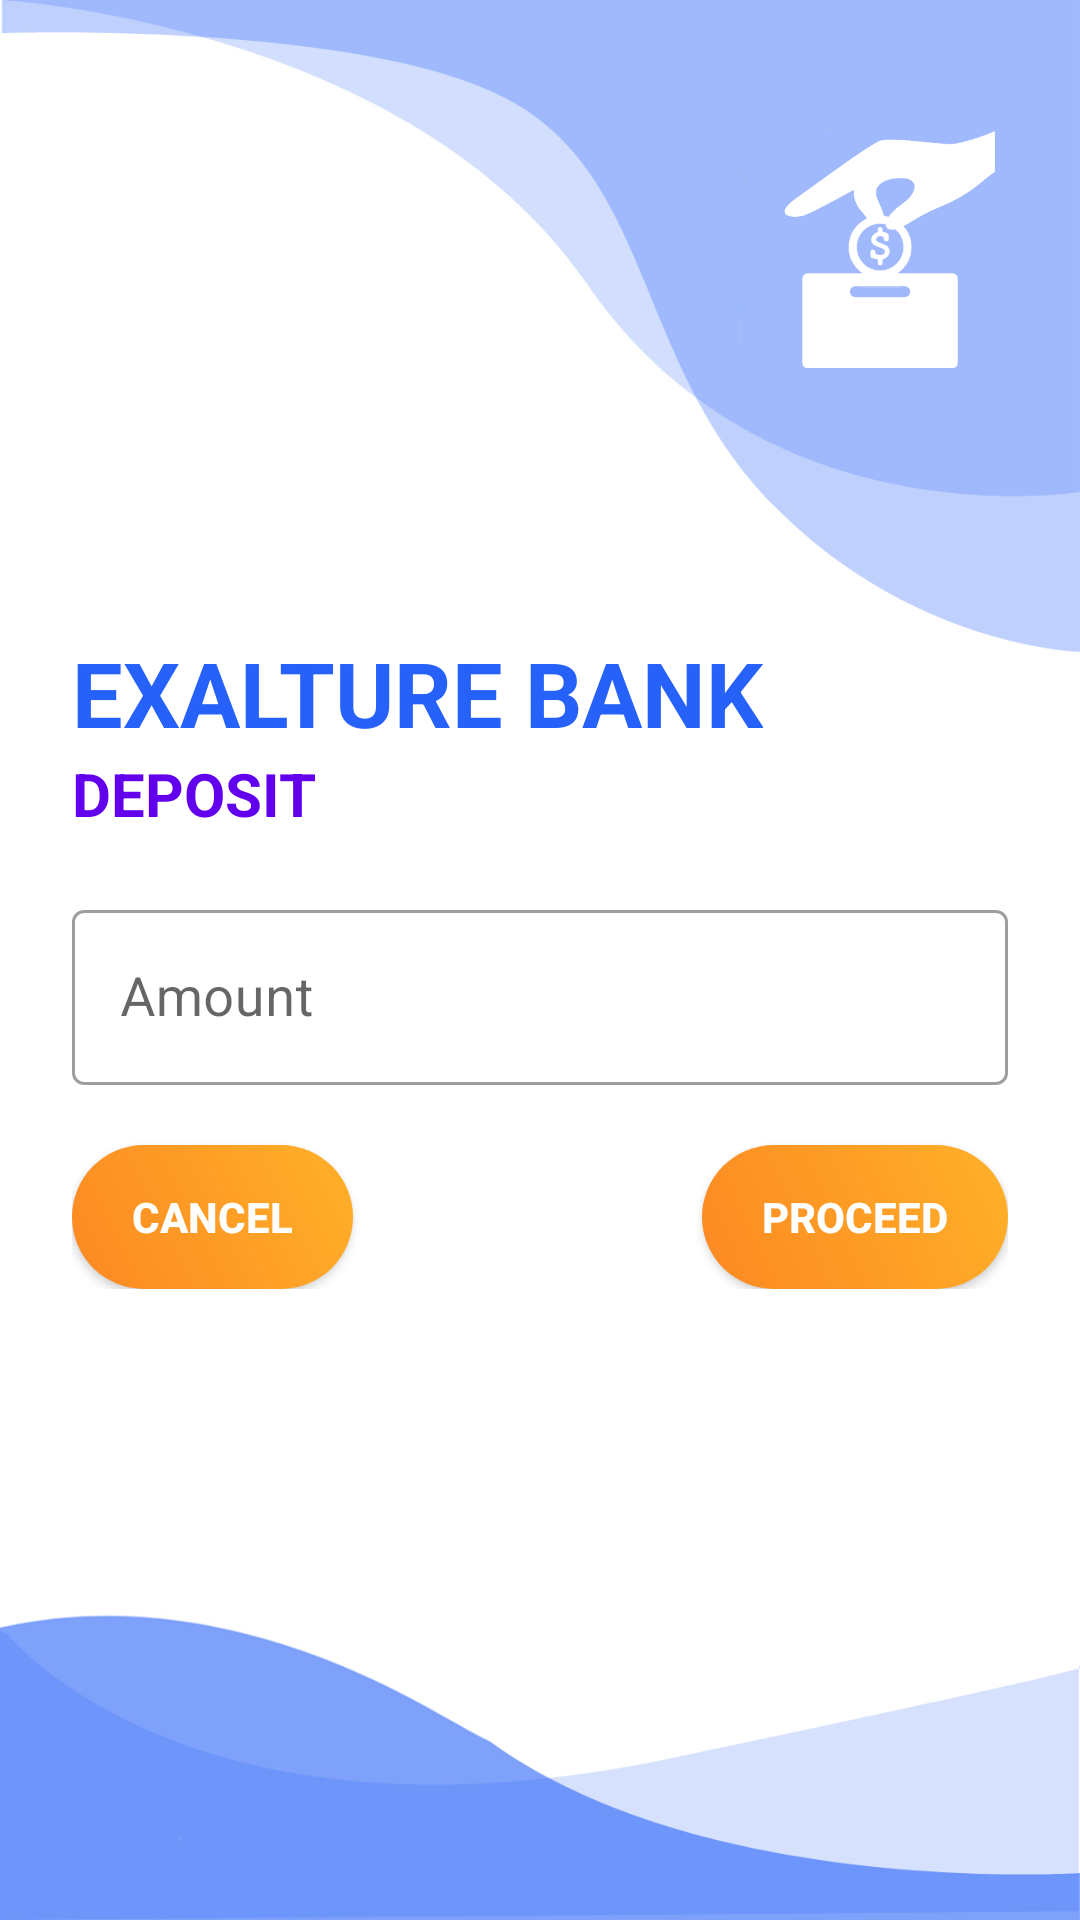

Locate icon controls on the screen. Image size 1080*1920, boxes as (x1, y1, x2, y2).
deposit: (784, 131, 995, 368)
